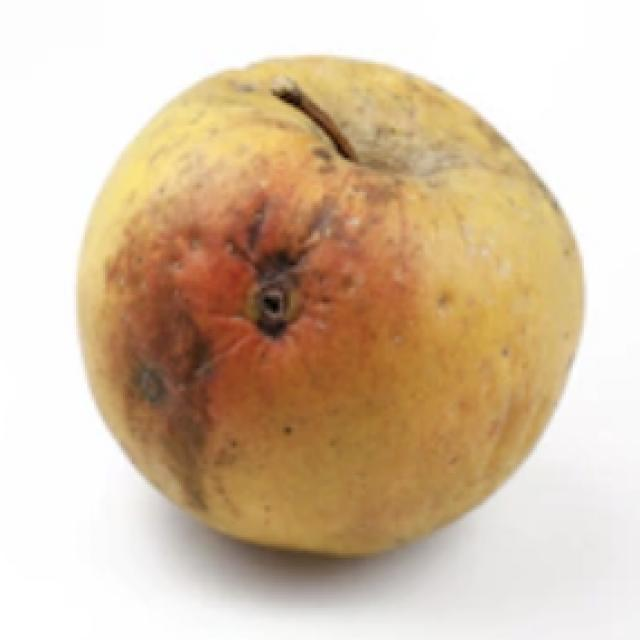Rotten: (69, 49, 588, 568)
